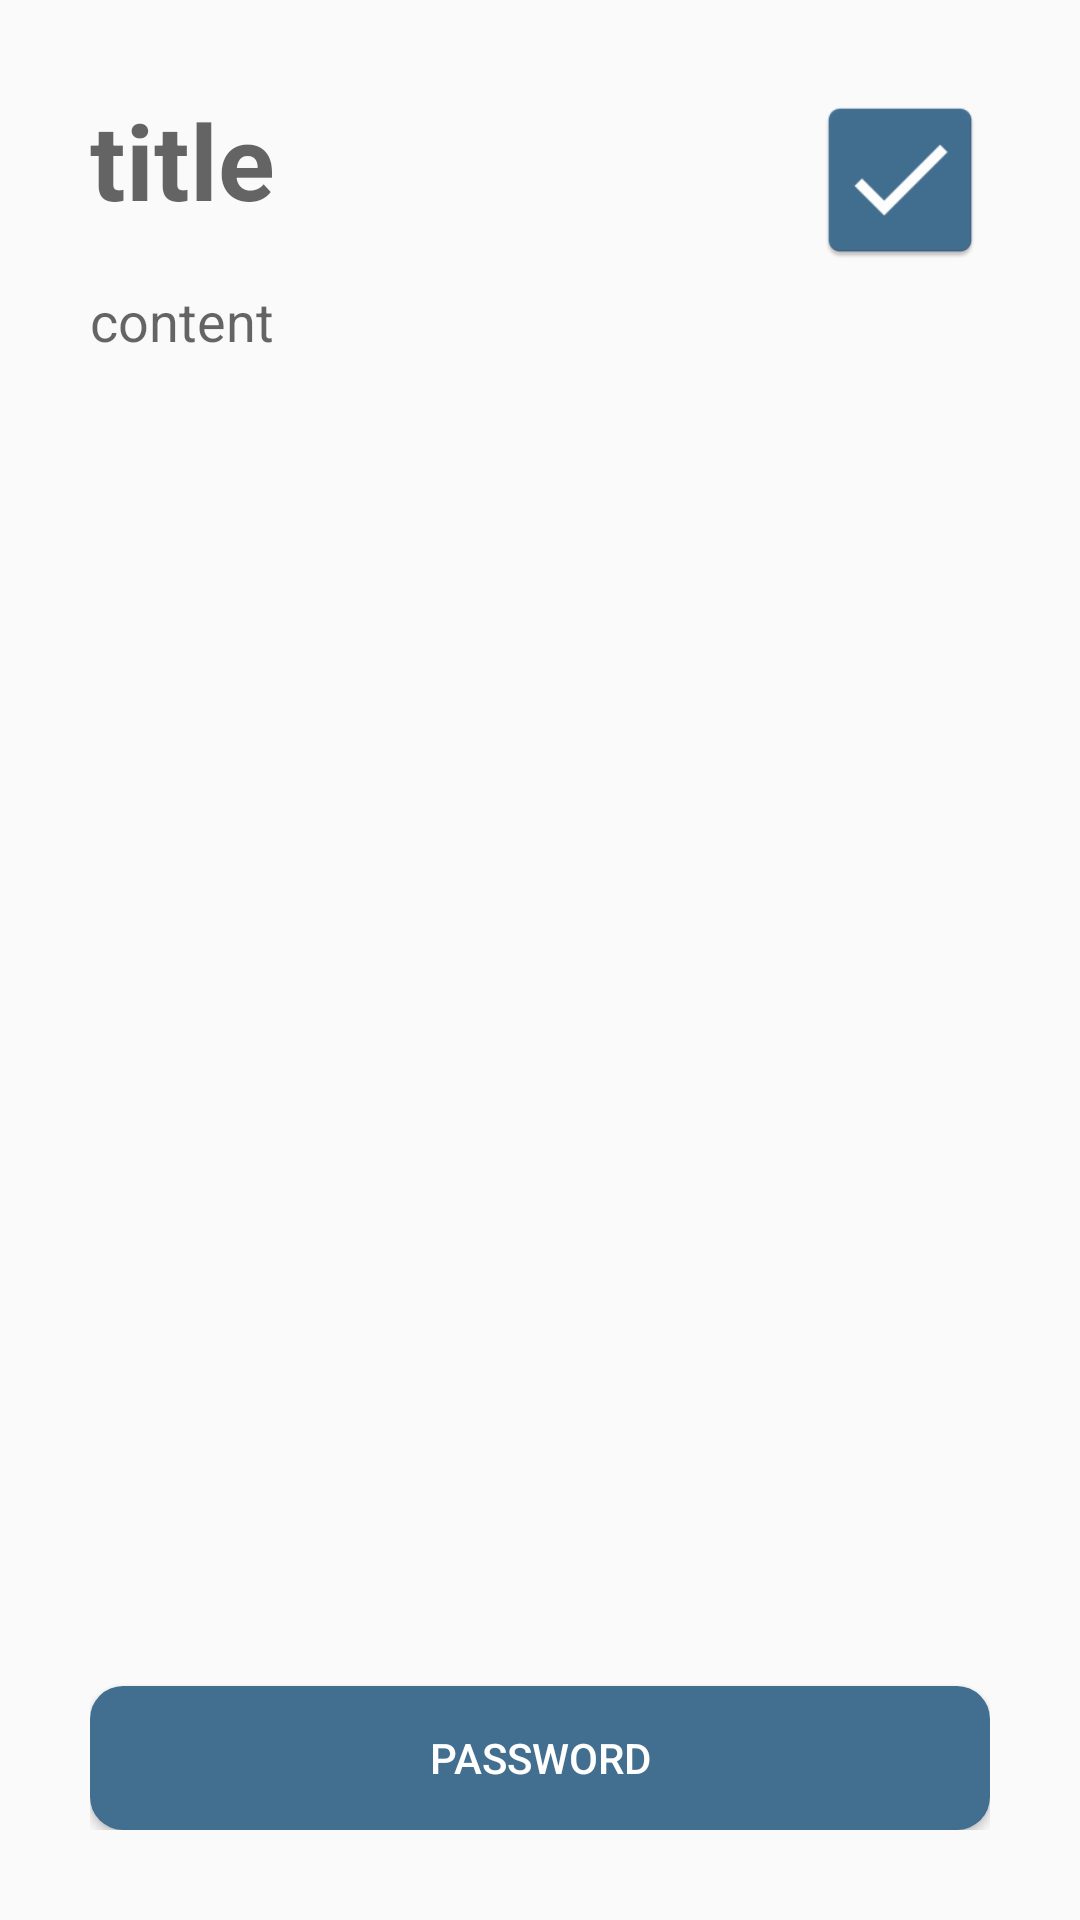

Where to tap for icons on this 1080×1920 app screen, as point (x, y):
savenote: point (900, 182)
